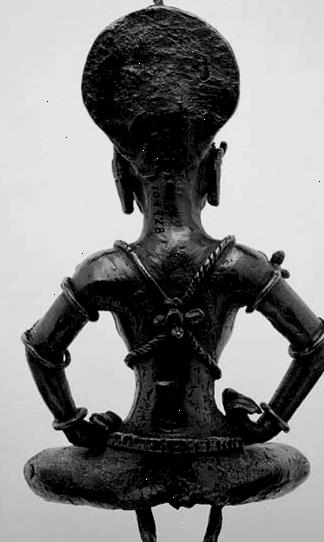golden_tara_of_agusan: (19, 0, 324, 542)
